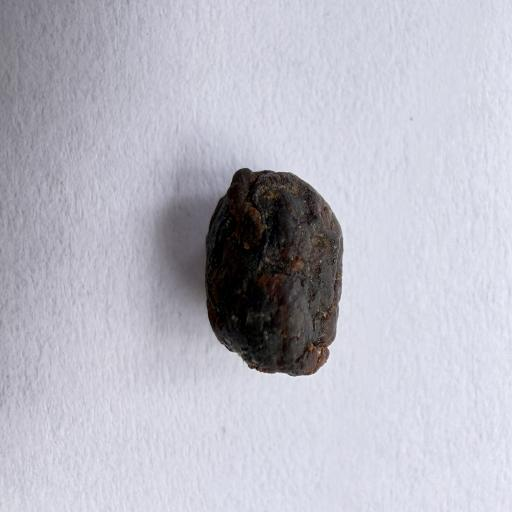Black_pepper: (192, 115, 369, 410)
